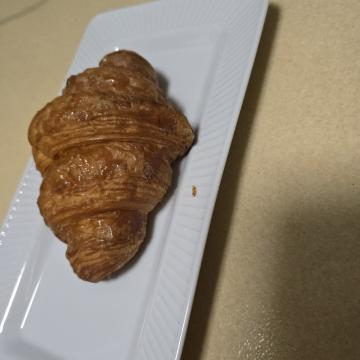croissant: (34, 158, 292, 339)
